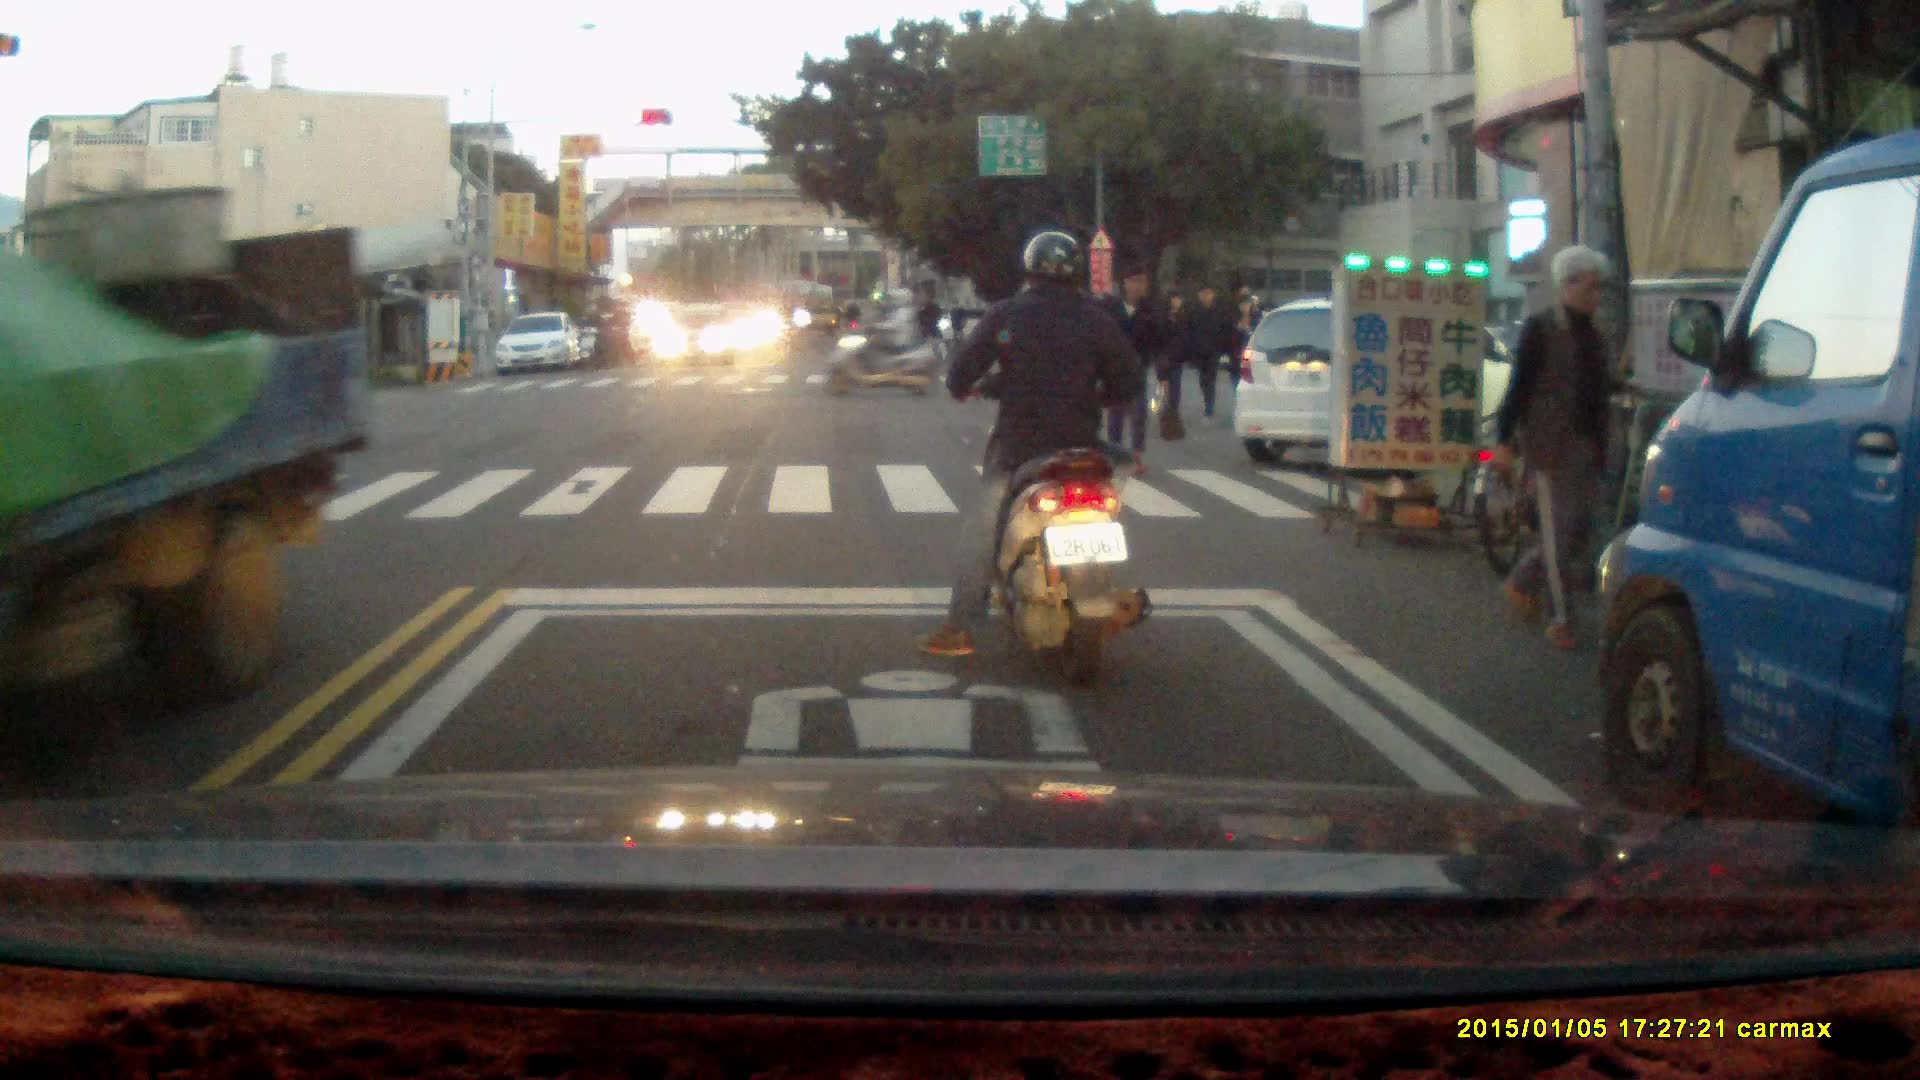pedestrian: (1495, 241, 1616, 648), (1090, 262, 1172, 477), (1184, 277, 1226, 420), (1154, 282, 1193, 425), (1228, 292, 1265, 411)
rider: (917, 228, 1151, 692), (825, 282, 937, 402), (577, 301, 612, 372), (601, 296, 636, 366)
vehicle: (1596, 120, 1920, 901), (1, 185, 368, 704), (1232, 303, 1533, 462), (493, 311, 584, 378), (657, 299, 745, 367)
